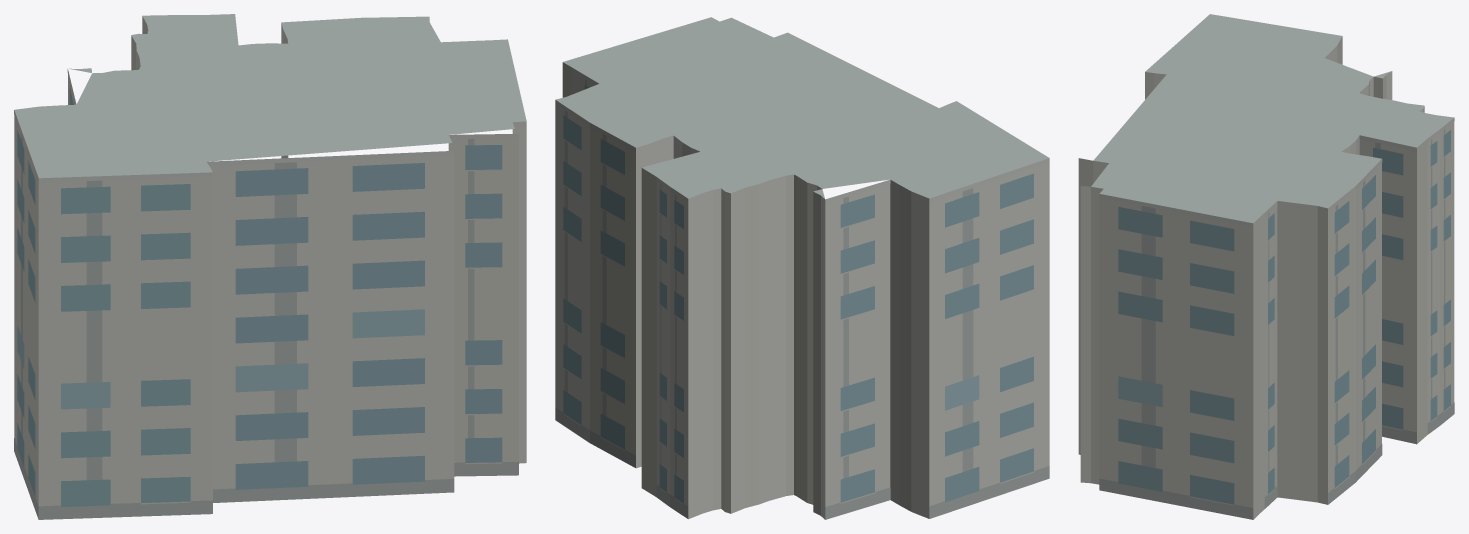
The model's file is survey-upis-32888461.glb.
3 renders of one model, left to right at view 1: azimuth 30°, elevation 25°; view 2: azimuth 150°, elevation 25°; view 3: azimuth 270°, elevation 25°, orthographic. The views are drawn at different scales.
Parts seen in each view (by area): view 1: survey-upis-32888461.tmp; view 2: survey-upis-32888461.tmp; view 3: survey-upis-32888461.tmp.
Boxes of the visible parts, bbox=[...] form: survey-upis-32888461.tmp: bbox=[14, 14, 526, 519]; survey-upis-32888461.tmp: bbox=[555, 17, 1049, 519]; survey-upis-32888461.tmp: bbox=[1078, 14, 1454, 519].
Size of the model in its own units: 28.17 by 18.6 by 21.37.
